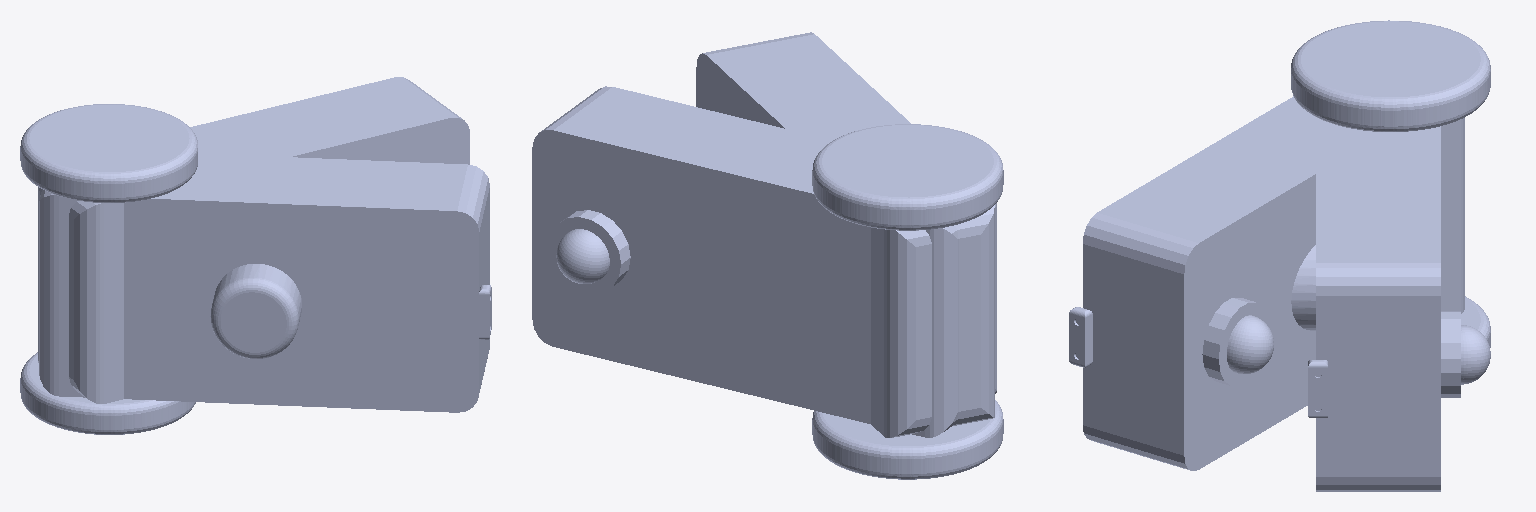
The robot description file, URDF, robot "Echo_Assem1.SLDASM":
<?xml version="1.0" encoding="utf-8"?>
<!-- This URDF was automatically created by SolidWorks to URDF Exporter! Originally created by [author] ([email redacted]) 
     Commit Version: 1.6.0-4-g7f85cfe  Build Version: 1.6.7995.38578
     For more information, please see http://wiki.ros.org/sw_urdf_exporter -->
<robot
  name="Echo_Assem1.SLDASM">
  <link
    name="base_link">
    <inertial>
      <origin
        xyz="0.00088588 5.7031E-05 0.02478"
        rpy="0 0 0" />
      <mass
        value="0.99833" />
      <inertia
        ixx="0.0010305"
        ixy="-1.7168E-06"
        ixz="1.5313E-05"
        iyy="0.0035021"
        iyz="1.7459E-07"
        izz="0.0041088" />
    </inertial>
    <visual>
      <origin
        xyz="0 0 0"
        rpy="0 0 0" />
      <geometry>
        <mesh
          filename="package://Echo_Assem1.SLDASM/meshes/base_link.STL" />
      </geometry>
      <material
        name="">
        <color
          rgba="0.79216 0.81961 0.93333 1" />
      </material>
    </visual>
    <collision>
      <origin
        xyz="0 0 0"
        rpy="0 0 0" />
      <geometry>
        <mesh
          filename="package://Echo_Assem1.SLDASM/meshes/base_link.STL" />
      </geometry>
    </collision>
  </link>
  <link
    name="left_wheel_link">
    <inertial>
      <origin
        xyz="-1.5613E-16 -0.0072578 0"
        rpy="0 0 0" />
      <mass
        value="0.071063" />
      <inertia
        ixx="2.952E-05"
        ixy="-6.5589E-20"
        ixz="0"
        iyy="5.6596E-05"
        iyz="1.1271E-20"
        izz="2.952E-05" />
    </inertial>
    <visual>
      <origin
        xyz="0 0 0"
        rpy="0 0 0" />
      <geometry>
        <mesh
          filename="package://Echo_Assem1.SLDASM/meshes/left_wheel_link.STL" />
      </geometry>
      <material
        name="">
        <color
          rgba="0.79216 0.81961 0.93333 1" />
      </material>
    </visual>
    <collision>
      <origin
        xyz="0 0 0"
        rpy="0 0 0" />
      <geometry>
        <mesh
          filename="package://Echo_Assem1.SLDASM/meshes/left_wheel_link.STL" />
      </geometry>
    </collision>
  </link>
  <joint
    name="base_link_to_left_wheel"
    type="continuous">
    <origin
      xyz="-0.07 -0.02 0.05"
      rpy="-1.5708 0 -1.2335" />
    <parent
      link="base_link" />
    <child
      link="left_wheel_link" />
    <axis
      xyz="0 1 0" />
  </joint>
  <link
    name="right_wheel_link">
    <inertial>
      <origin
        xyz="-1.249E-16 -0.0072578 0"
        rpy="0 0 0" />
      <mass
        value="0.071063" />
      <inertia
        ixx="2.952E-05"
        ixy="-6.9916E-20"
        ixz="3.3881E-21"
        iyy="5.6596E-05"
        iyz="1.6149E-20"
        izz="2.952E-05" />
    </inertial>
    <visual>
      <origin
        xyz="0 0 0"
        rpy="0 0 0" />
      <geometry>
        <mesh
          filename="package://Echo_Assem1.SLDASM/meshes/right_wheel_link.STL" />
      </geometry>
      <material
        name="">
        <color
          rgba="0.79216 0.81961 0.93333 1" />
      </material>
    </visual>
    <collision>
      <origin
        xyz="0 0 0"
        rpy="0 0 0" />
      <geometry>
        <mesh
          filename="package://Echo_Assem1.SLDASM/meshes/right_wheel_link.STL" />
      </geometry>
    </collision>
  </link>
  <joint
    name="base_link_to_right_wheel"
    type="continuous">
    <origin
      xyz="-0.07 -0.02 -0.05"
      rpy="1.5708 0 -0.62035" />
    <parent
      link="base_link" />
    <child
      link="right_wheel_link" />
    <axis
      xyz="0 1 0" />
  </joint>
  <link
    name="caster_wheel">
    <inertial>
      <origin
        xyz="0 -2.0817E-17 0.0045"
        rpy="0 0 0" />
      <mass
        value="0.0036191" />
      <inertia
        ixx="1.3517E-07"
        ixy="-4.0433E-39"
        ixz="1.1099E-24"
        iyy="1.3517E-07"
        iyz="-5.3732E-22"
        izz="2.0846E-07" />
    </inertial>
    <visual>
      <origin
        xyz="0 0 0"
        rpy="0 0 0" />
      <geometry>
        <mesh
          filename="package://Echo_Assem1.SLDASM/meshes/caster_wheel.STL" />
      </geometry>
      <material
        name="">
        <color
          rgba="0.79216 0.81961 0.93333 1" />
      </material>
    </visual>
    <collision>
      <origin
        xyz="0 0 0"
        rpy="0 0 0" />
      <geometry>
        <mesh
          filename="package://Echo_Assem1.SLDASM/meshes/caster_wheel.STL" />
      </geometry>
    </collision>
  </link>
  <joint
    name="base_link_to_caster_wheel"
    type="fixed">
    <origin
      xyz="0.07 0.008 0"
      rpy="1.5708 -0.73937 3.1416" />
    <parent
      link="base_link" />
    <child
      link="caster_wheel" />
    <axis
      xyz="0 0 0" />
  </joint>
  <link
    name="camera_link">
    <inertial>
      <origin
        xyz="0.0024702 -1.2275E-17 0"
        rpy="0 0 0" />
      <mass
        value="0.00094737" />
      <inertia
        ixx="5.0737E-08"
        ixy="-1.7868E-23"
        ixz="2.4449E-25"
        iyy="6.9275E-09"
        iyz="7.8632E-15"
        izz="4.7598E-08" />
    </inertial>
    <visual>
      <origin
        xyz="0 0 0"
        rpy="0 0 0" />
      <geometry>
        <mesh
          filename="package://Echo_Assem1.SLDASM/meshes/camera_link.STL" />
      </geometry>
      <material
        name="">
        <color
          rgba="0.79216 0.81961 0.93333 1" />
      </material>
    </visual>
    <collision>
      <origin
        xyz="0 0 0"
        rpy="0 0 0" />
      <geometry>
        <mesh
          filename="package://Echo_Assem1.SLDASM/meshes/camera_link.STL" />
      </geometry>
    </collision>
  </link>
  <joint
    name="base_link_to_camera"
    type="fixed">
    <origin
      xyz="0.1 -0.049 0"
      rpy="1.5708 0 0" />
    <parent
      link="base_link" />
    <child
      link="camera_link" />
    <axis
      xyz="0 0 0" />
  </joint>
  <link
    name="lidar_link">
    <inertial>
      <origin
        xyz="0 0 0"
        rpy="0 0 0" />
      <mass
        value="0" />
      <inertia
        ixx="0"
        ixy="0"
        ixz="0"
        iyy="0"
        iyz="0"
        izz="0" />
    </inertial>
    <visual>
      <origin
        xyz="0 0 0"
        rpy="0 0 0" />
      <geometry>
        <mesh
          filename="package://Echo_Assem1.SLDASM/meshes/lidar_link.STL" />
      </geometry>
      <material
        name="">
        <color
          rgba="1 1 1 1" />
      </material>
    </visual>
    <collision>
      <origin
        xyz="0 0 0"
        rpy="0 0 0" />
      <geometry>
        <mesh
          filename="package://Echo_Assem1.SLDASM/meshes/lidar_link.STL" />
      </geometry>
    </collision>
  </link>
  <joint
    name="base_link_to_lidar"
    type="fixed">
    <origin
      xyz="0 -0.05 0"
      rpy="-1.5708 -0.38409 3.1416" />
    <parent
      link="base_link" />
    <child
      link="lidar_link" />
    <axis
      xyz="0 0 0" />
  </joint>
</robot>

--- Facts derived from the render (not from the file) ---
The picture shows the robot from 3 angles, left to right: view 1: azimuth 30°, elevation 25°; view 2: azimuth 150°, elevation 25°; view 3: azimuth 270°, elevation 25°; orthographic projection.
Robot: Echo_Assem1.SLDASM — 6 links, 5 joints (2 continuous, 3 fixed); root link base_link; default pose: every joint at zero.
Links seen in each view (by area): view 1: right_wheel_link, camera_link, base_link; view 2: camera_link, base_link, right_wheel_link; view 3: right_wheel_link, camera_link, base_link.
Link boxes in pixels (left/top/right/bottom): right_wheel_link: left=21, top=104, right=491, bottom=434; camera_link: left=20, top=77, right=469, bottom=409; base_link: left=20, top=116, right=460, bottom=434; camera_link: left=532, top=87, right=1003, bottom=478; base_link: left=532, top=86, right=1003, bottom=479; right_wheel_link: left=696, top=32, right=1002, bottom=479; right_wheel_link: left=1069, top=20, right=1490, bottom=470; camera_link: left=1291, top=21, right=1490, bottom=478; base_link: left=1291, top=36, right=1490, bottom=491.
Size in the robot's own frame: 0.215 by 0.1686 by 0.13 metres.
3 mesh visuals loaded from 6 distinct referenced files (3 binary STL); not drawn: 3 (reference not matched to a file when rendering).